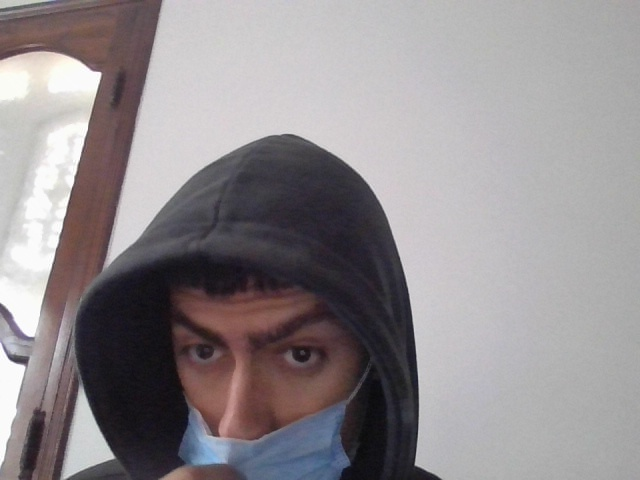mask_weared_incorrect: (166, 236, 361, 480)
